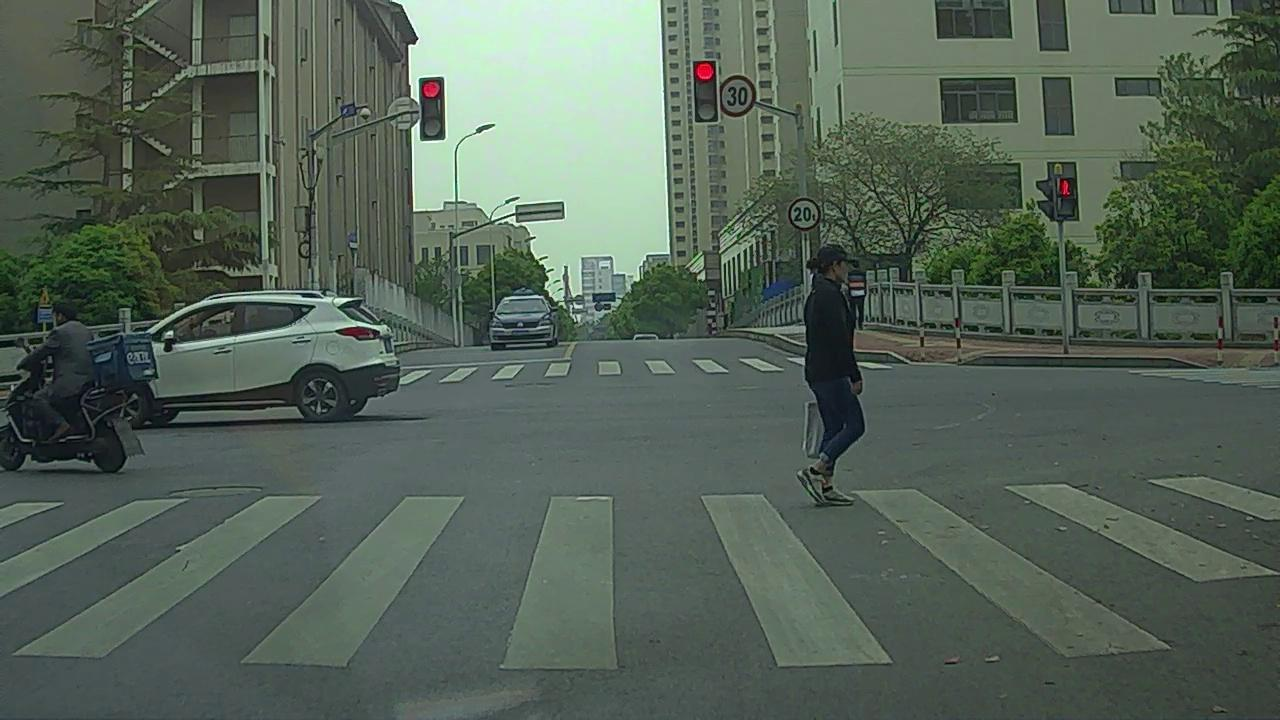traffic_light: (421, 78, 444, 139), (694, 62, 717, 122)
